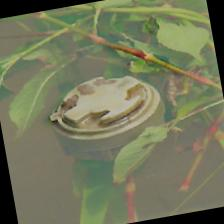M14: (51, 65, 172, 164)
